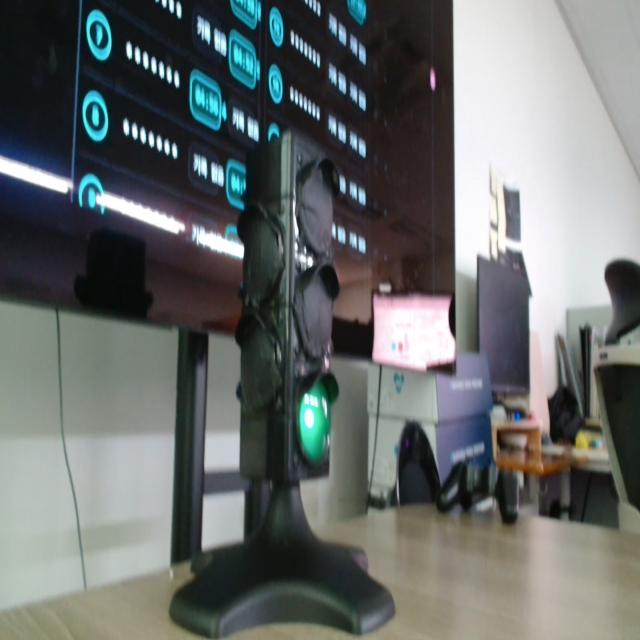green_light: (299, 382, 330, 463)
